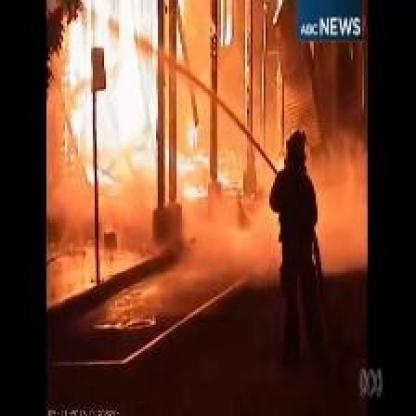fire: (63, 2, 240, 215)
